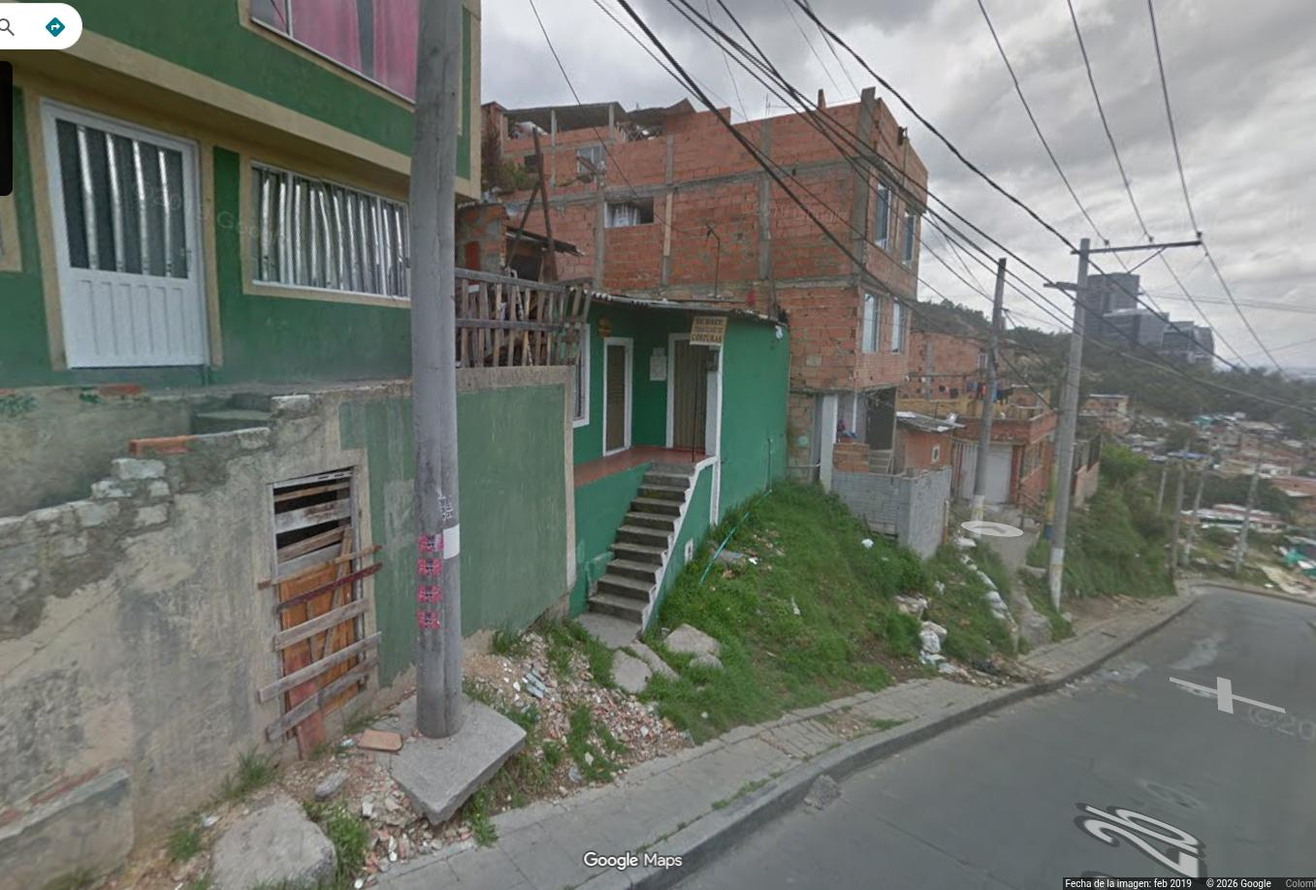casa: (0, 0, 415, 889), (484, 87, 929, 478), (458, 273, 789, 628), (459, 370, 574, 632)
poste: (410, 0, 463, 738), (1048, 238, 1090, 609), (972, 257, 1006, 521)
